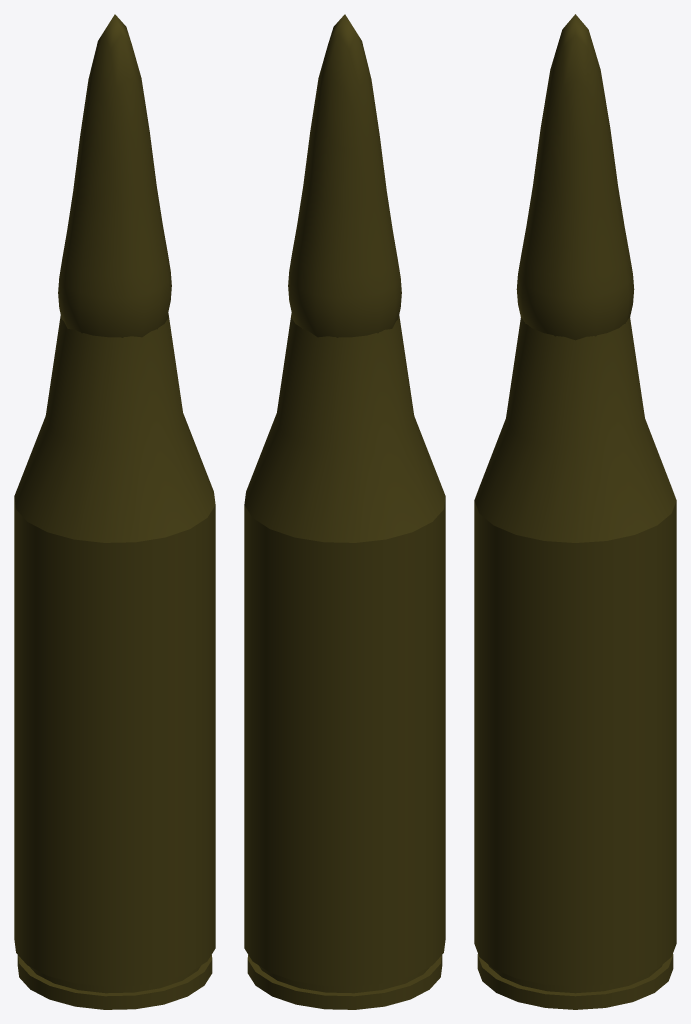
File: RifleBullet_Pickable.obj
3 views of the same model, side by side, from view 1: azimuth 30°, elevation 25°; view 2: azimuth 150°, elevation 25°; view 3: azimuth 270°, elevation 25° (orthographic).
Parts seen in each view (by area): view 1: RifleBullet_Pickable; view 2: RifleBullet_Pickable; view 3: RifleBullet_Pickable.
Boxes of the visible parts, box(x1,y1,x2,y2) form: RifleBullet_Pickable: box(14, 14, 215, 1009); RifleBullet_Pickable: box(244, 14, 445, 1009); RifleBullet_Pickable: box(474, 14, 676, 1009).
Bounding box in the file's own units: 2.21 × 11.58 × 2.21.
